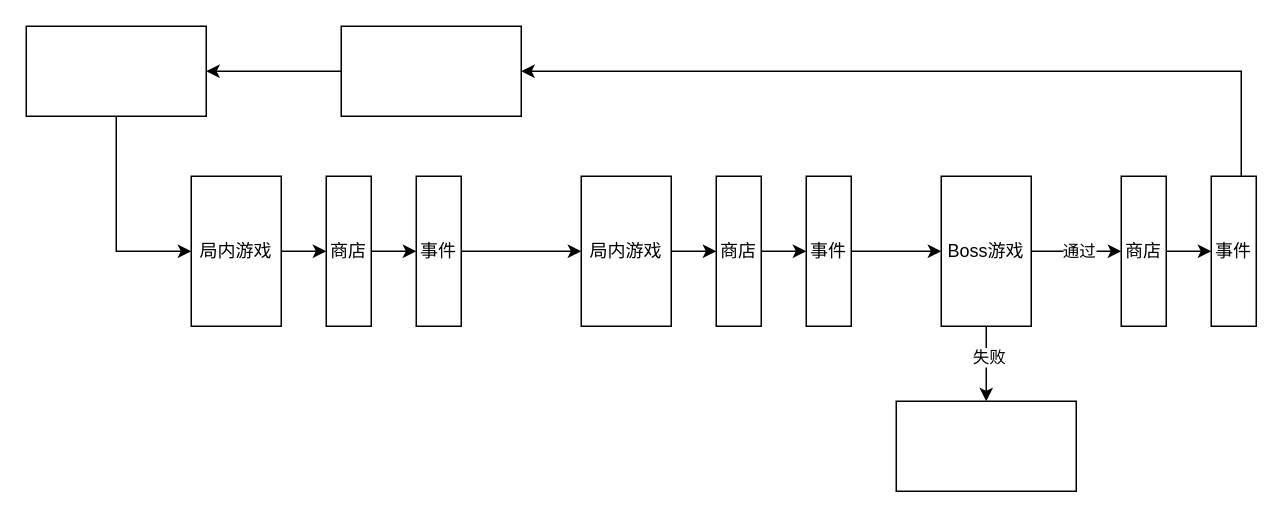
This 1283x518 diagram has some shape labels left out. The shapes that lost their labels are listed below. From the top down, each one's centre as x and y in pixels, then its label:
At pixel 115 70: "一个场景开始".
At pixel 430 70: "前往下一个场景".
At pixel 985 445: "游戏结束，返回主界面".
